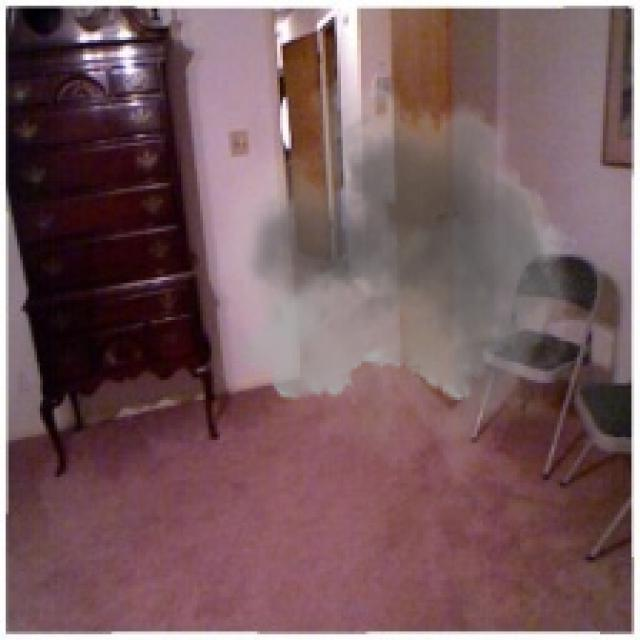Smoke: (214, 63, 592, 486)
